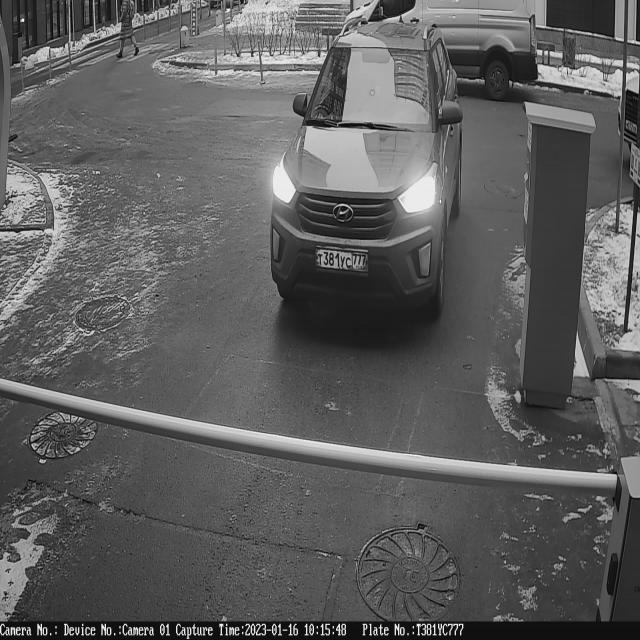car-plate-numbers: (314, 242, 373, 276)
